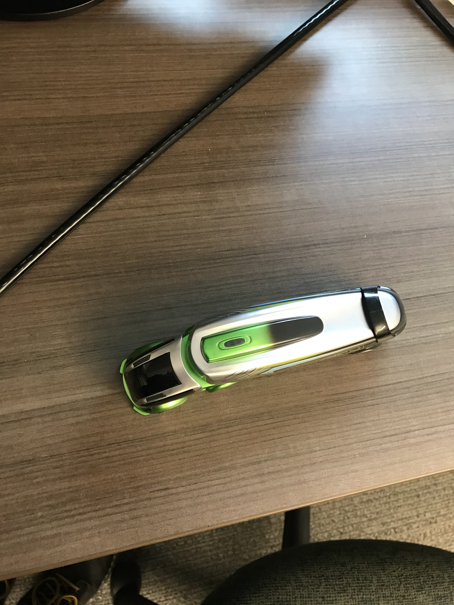Freewheel: (119, 283, 408, 416)
